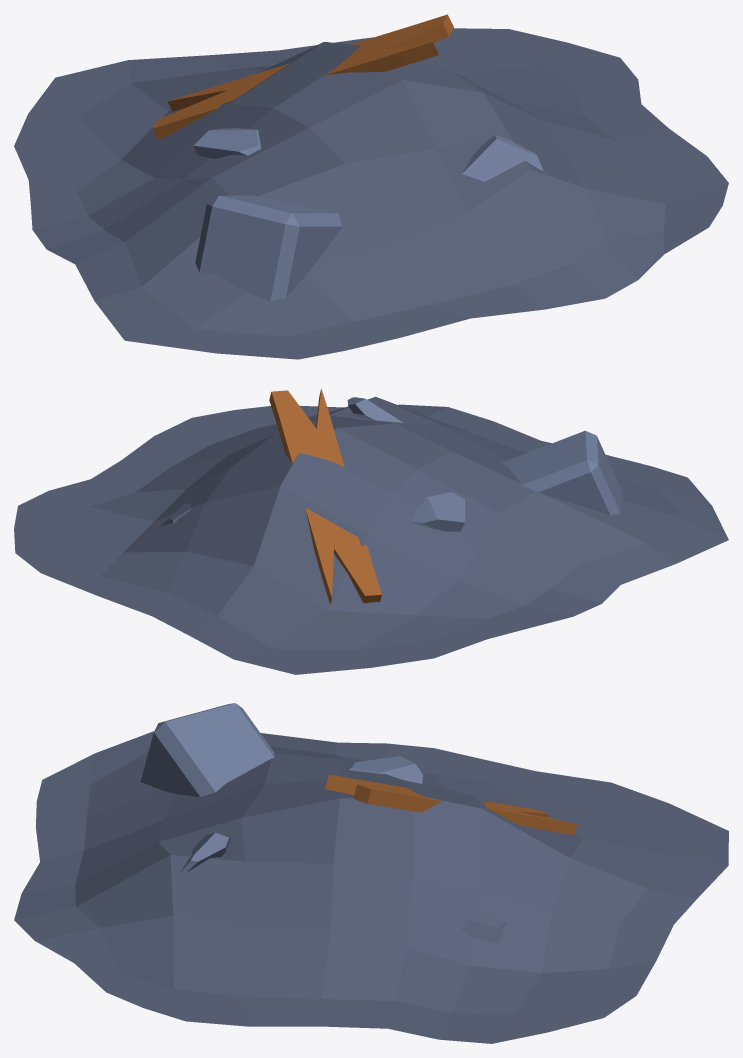
Rendered from debris.glb.
The picture shows the model from 3 angles, top to bottom: view 1: azimuth 30°, elevation 25°; view 2: azimuth 150°, elevation 25°; view 3: azimuth 270°, elevation 25°; orthographic projection. The views are drawn at different scales.
Visible parts, largest first — view 1: debris; view 2: debris; view 3: debris.
Boxes of the visible parts, x1,y1,x2,y2 form: debris: (14, 14, 728, 359); debris: (14, 389, 728, 674); debris: (14, 703, 728, 1043).
Bounding box in the file's own units: 2 × 0.5921 × 1.91.
